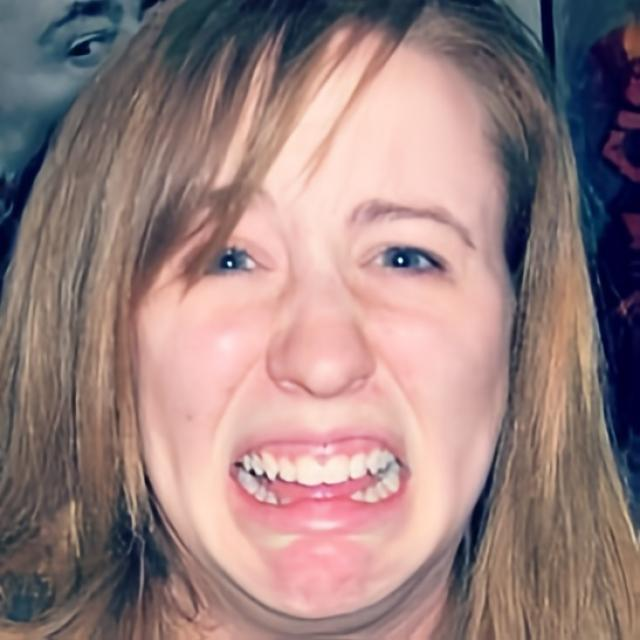disgust: (126, 0, 519, 622)
